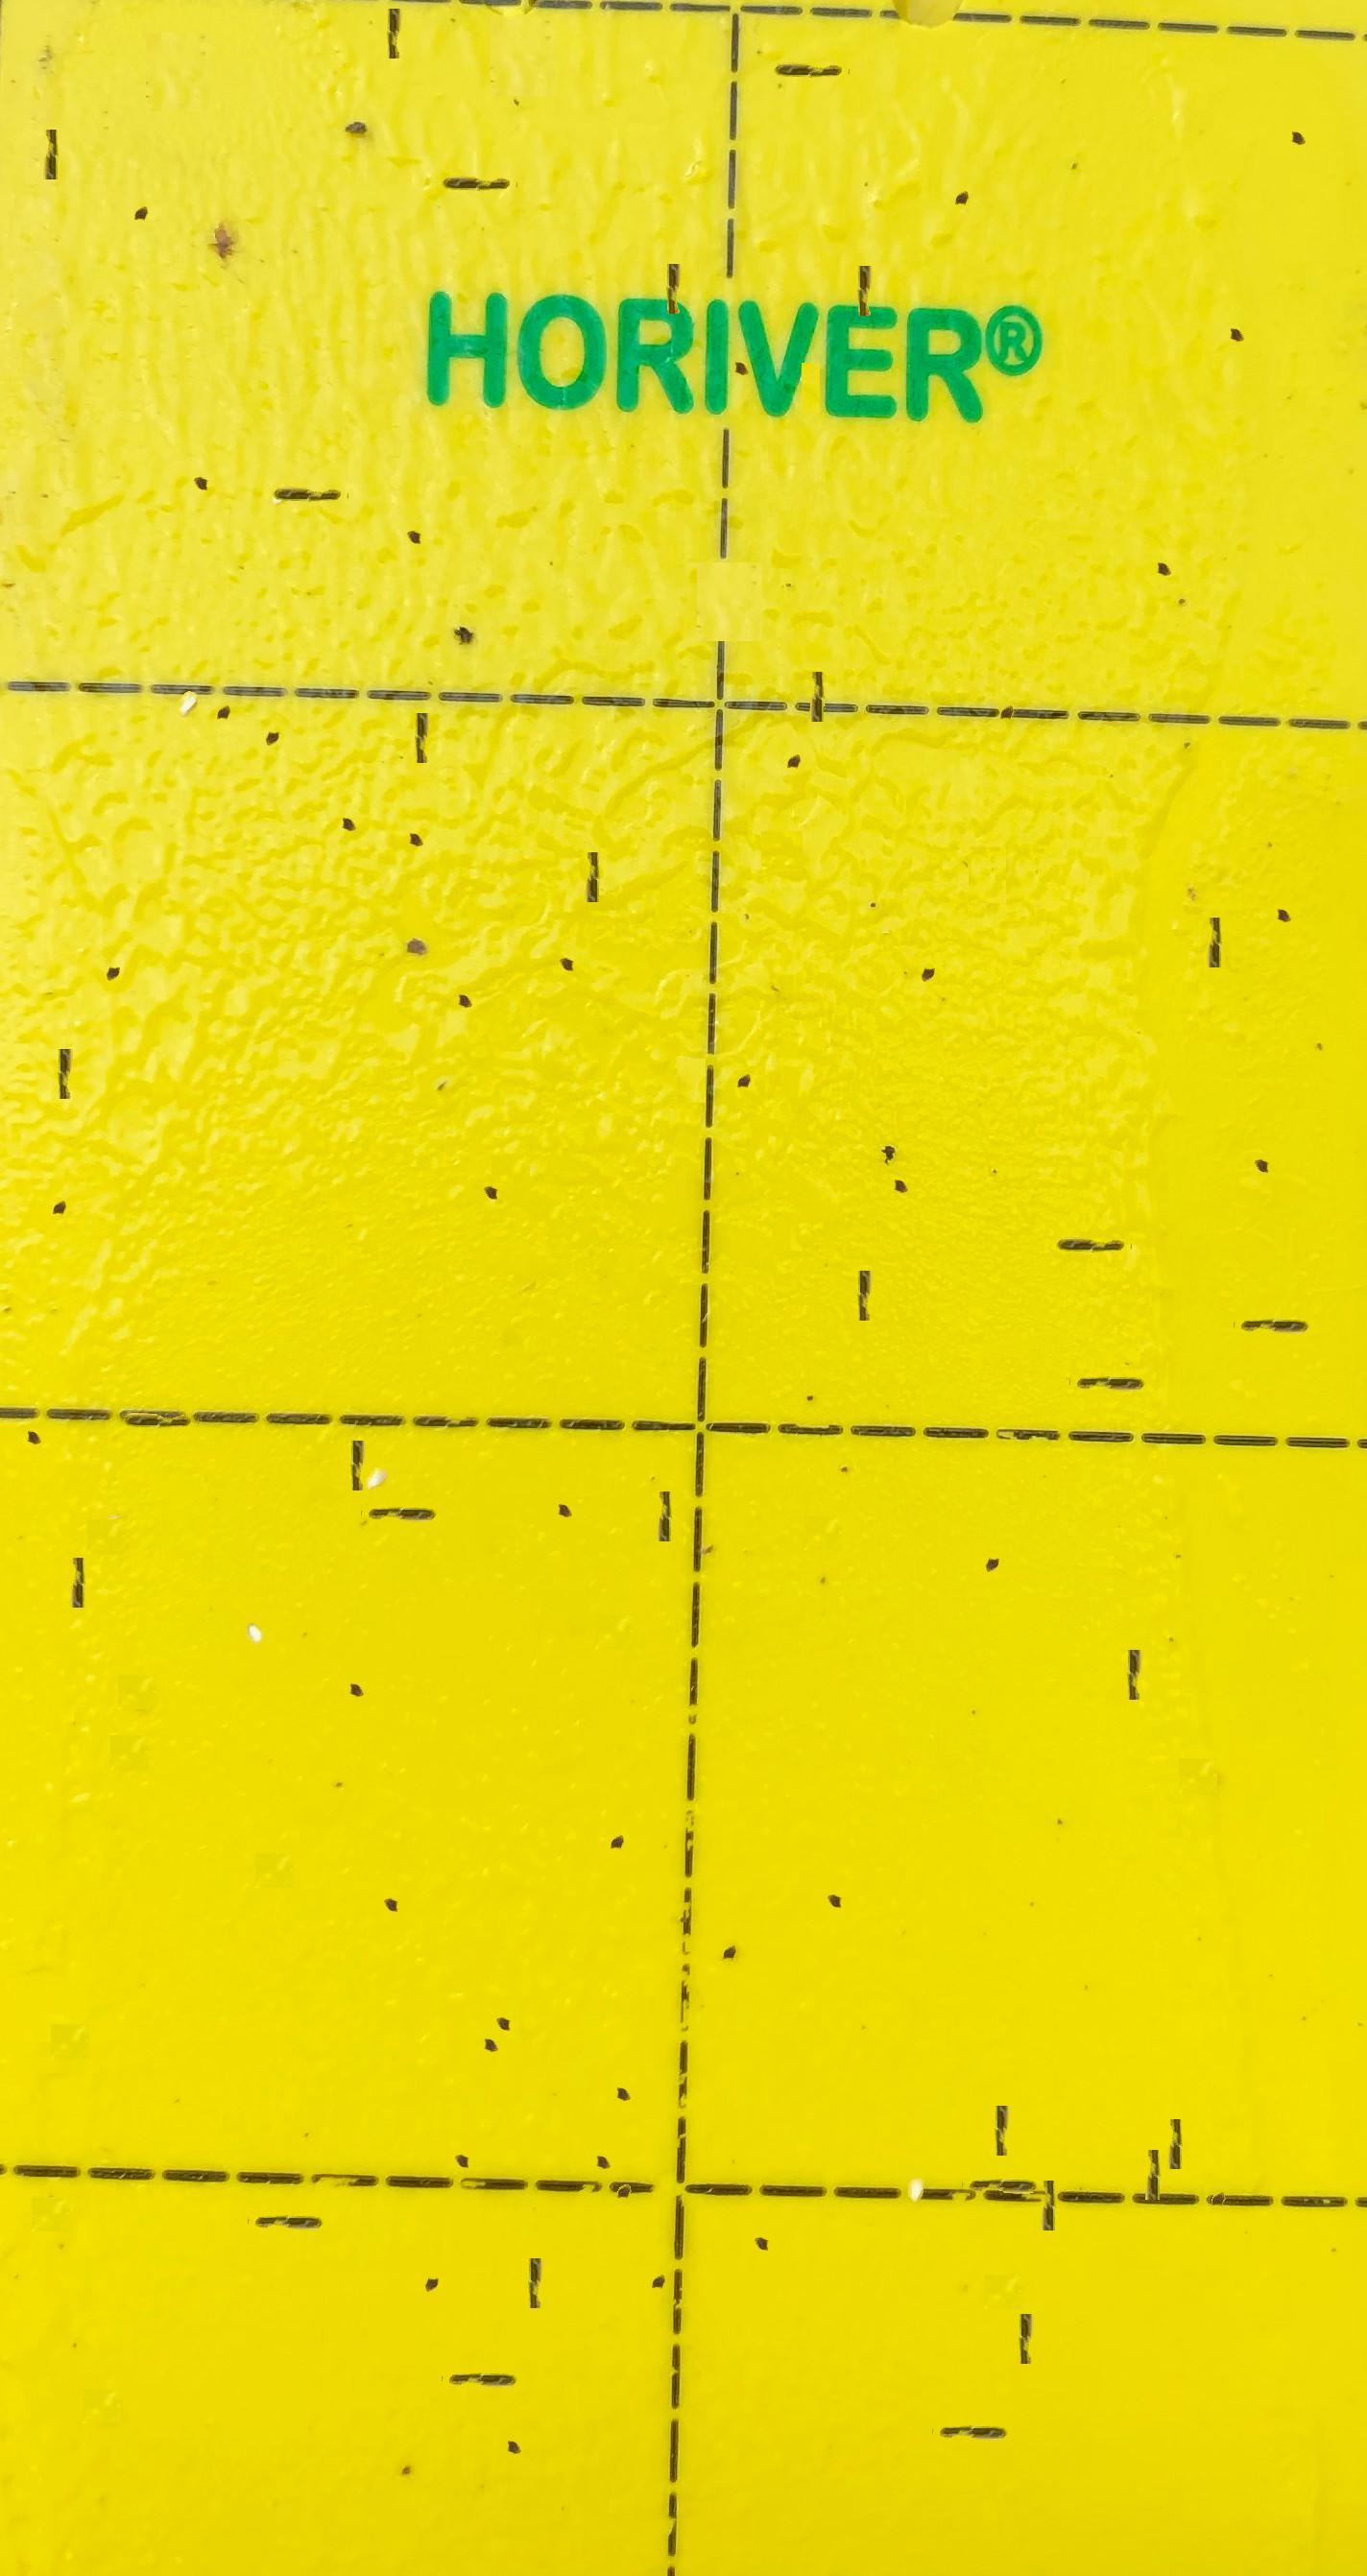white_fly: (234, 1562, 276, 1610), (356, 1412, 399, 1457), (165, 634, 208, 678), (261, 429, 303, 472), (898, 2133, 939, 2171)
